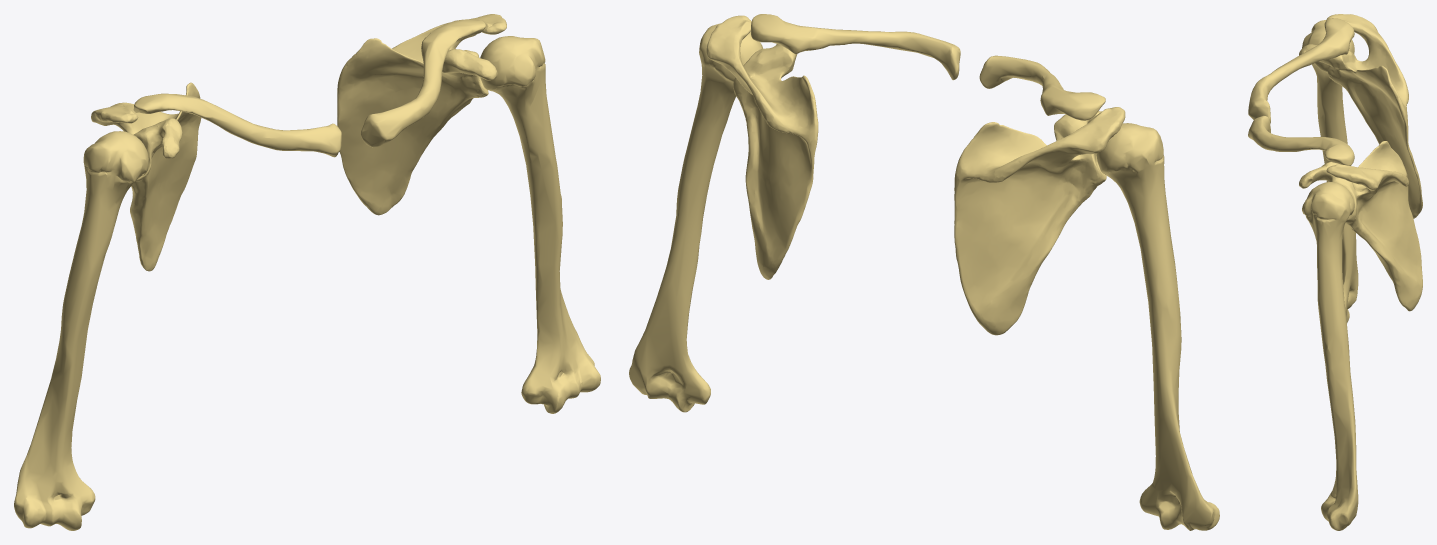
The model's file is shoulder.glb.
3 views of the same model, side by side, from view 1: azimuth 30°, elevation 25°; view 2: azimuth 150°, elevation 25°; view 3: azimuth 270°, elevation 25° (orthographic). The views are drawn at different scales.
Visible parts, largest first — view 1: shoulder:humerus:isa:FJ3368, shoulder:humerus:isa:FJ3262, shoulder:scapula:isa:FJ3279, shoulder:scapula:isa:FJ3384, shoulder:clavicle:isa:FJ3362, shoulder:clavicle:isa:FJ3237; view 2: shoulder:scapula:isa:FJ3384, shoulder:humerus:isa:FJ3368, shoulder:scapula:isa:FJ3279, shoulder:humerus:isa:FJ3262, shoulder:clavicle:isa:FJ3237, shoulder:clavicle:isa:FJ3362; view 3: shoulder:humerus:isa:FJ3262, shoulder:scapula:isa:FJ3279, shoulder:scapula:isa:FJ3384, shoulder:humerus:isa:FJ3368, shoulder:clavicle:isa:FJ3362, shoulder:clavicle:isa:FJ3237.
Boxes of the visible parts, x1,y1,x2,y2 form: shoulder:humerus:isa:FJ3368: (14,131,148,530); shoulder:humerus:isa:FJ3262: (480,36,600,413); shoulder:scapula:isa:FJ3279: (337,14,506,215); shoulder:scapula:isa:FJ3384: (91,82,201,271); shoulder:clavicle:isa:FJ3362: (133,93,341,157); shoulder:clavicle:isa:FJ3237: (360,19,485,147); shoulder:scapula:isa:FJ3384: (954,107,1125,335); shoulder:humerus:isa:FJ3368: (1096,123,1219,530); shoulder:scapula:isa:FJ3279: (706,15,818,279); shoulder:humerus:isa:FJ3262: (629,23,763,412); shoulder:clavicle:isa:FJ3237: (751,14,960,80); shoulder:clavicle:isa:FJ3362: (979,55,1105,120); shoulder:humerus:isa:FJ3262: (1302,182,1358,530); shoulder:scapula:isa:FJ3279: (1299,141,1422,311); shoulder:scapula:isa:FJ3384: (1299,14,1422,218); shoulder:humerus:isa:FJ3368: (1302,20,1358,322); shoulder:clavicle:isa:FJ3362: (1248,18,1354,123); shoulder:clavicle:isa:FJ3237: (1248,115,1354,165).
Size of the model in its own units: 0.4816 by 0.3261 by 0.1522.
